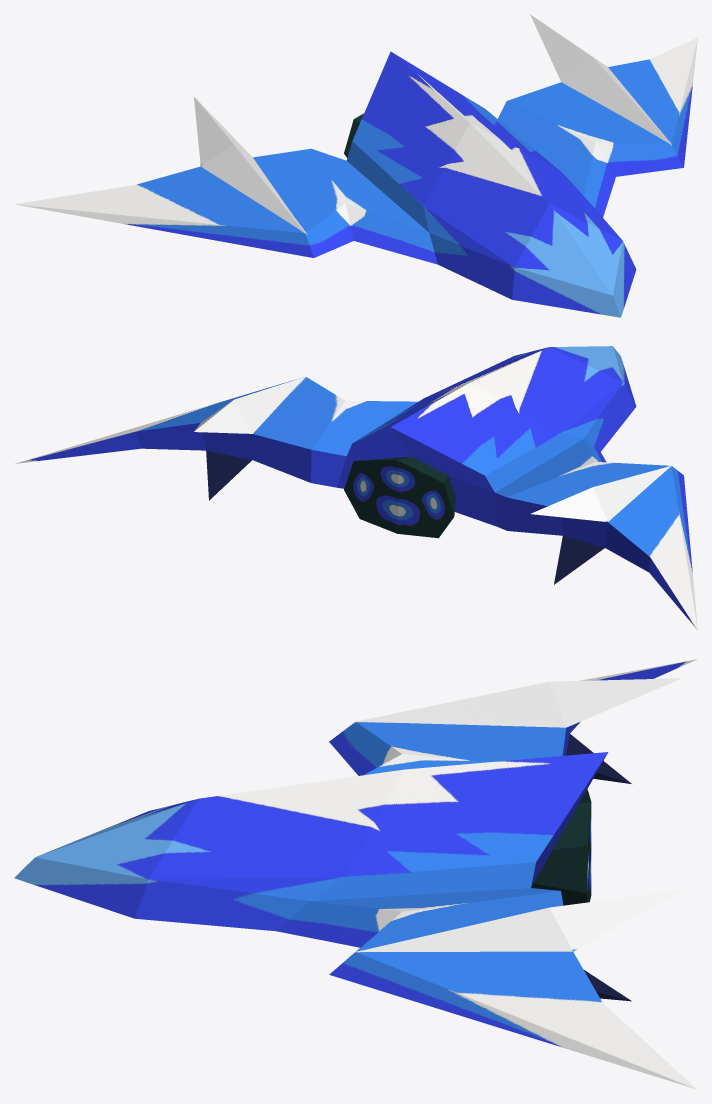
Rendered from spark5.obj.
3 views of the same model, one above another, from view 1: azimuth 30°, elevation 25°; view 2: azimuth 150°, elevation 25°; view 3: azimuth 270°, elevation 25° (orthographic). The views are drawn at different scales.
Visible parts, largest first — view 1: Plane; view 2: Plane; view 3: Plane.
Boxes of the visible parts, x1,y1,x2,y2 form: Plane: (15,14,697,317); Plane: (15,346,697,630); Plane: (14,659,697,1089).
Bounding box in the file's own units: 2.17 × 0.3383 × 1.46.
Materials: 1 (1 with a texture image).
